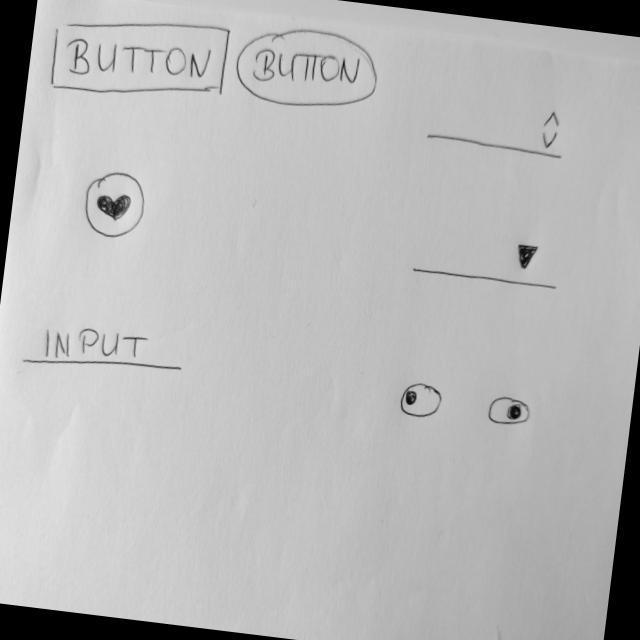button: (46, 7, 232, 113), (232, 21, 384, 120)
icon-button: (80, 165, 151, 243)
input: (21, 315, 188, 385)
number-input: (426, 94, 570, 162)
select: (411, 228, 565, 296)
toggle: (398, 380, 445, 423), (487, 394, 533, 430)
